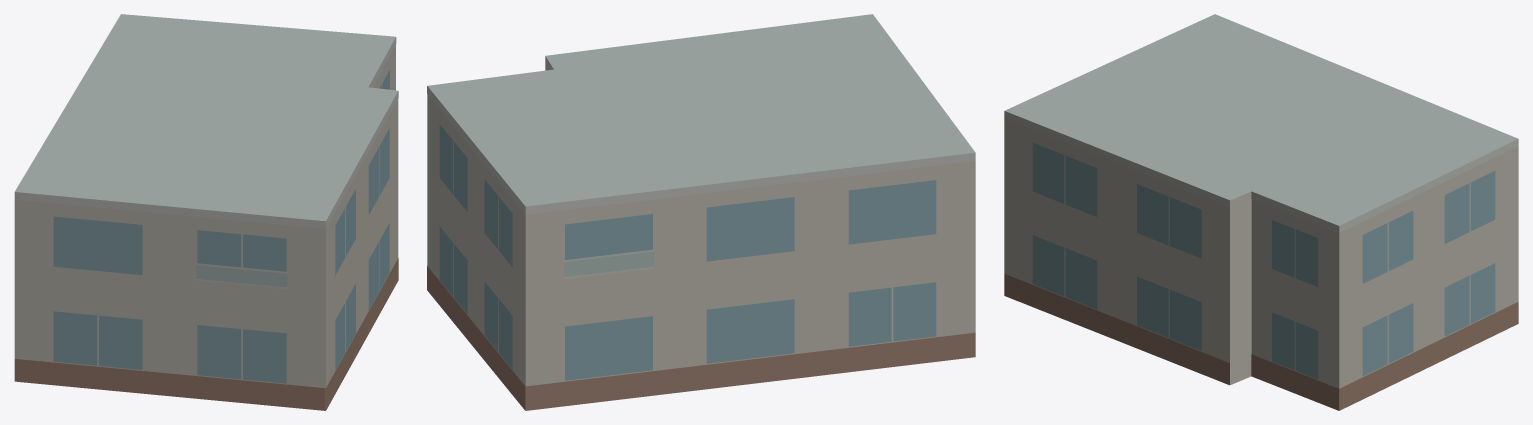
Rendered from survey-upis-32924187.glb.
3 renders of one model, left to right at view 1: azimuth 30°, elevation 25°; view 2: azimuth 150°, elevation 25°; view 3: azimuth 270°, elevation 25°, orthographic. The views are drawn at different scales.
Visible parts, largest first — view 1: survey-upis-32924187.tmp; view 2: survey-upis-32924187.tmp; view 3: survey-upis-32924187.tmp.
Part boxes in pixels (x1=…): survey-upis-32924187.tmp: x1=14, y1=14, x2=398, y2=410; survey-upis-32924187.tmp: x1=427, y1=14, x2=975, y2=410; survey-upis-32924187.tmp: x1=1004, y1=14, x2=1518, y2=410.
Size of the model in its own units: 15 by 6.1 by 15.38.
